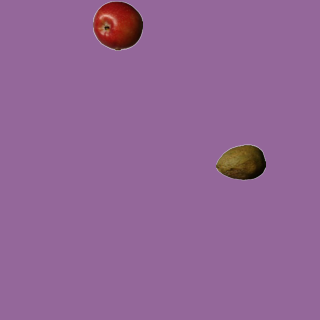Apple Braeburn: (92, 0, 142, 50)
Papaya: (215, 137, 265, 187)
